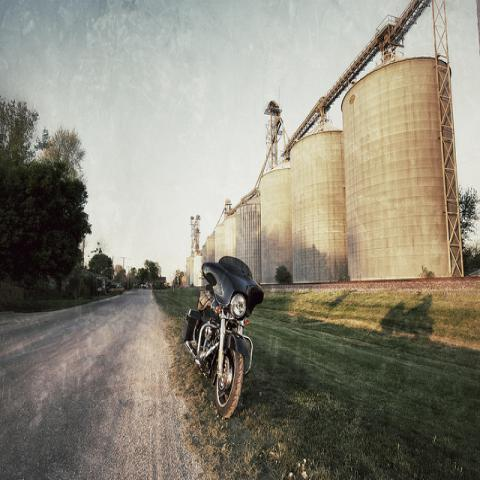car: (105, 284, 126, 295)
motorcycle: (183, 258, 264, 419)
